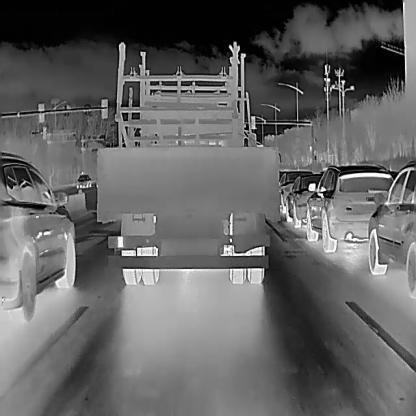car: (95, 83, 280, 283), (0, 150, 75, 322), (304, 161, 394, 253), (366, 158, 415, 299), (286, 174, 325, 227), (276, 172, 313, 214), (74, 172, 93, 188)
